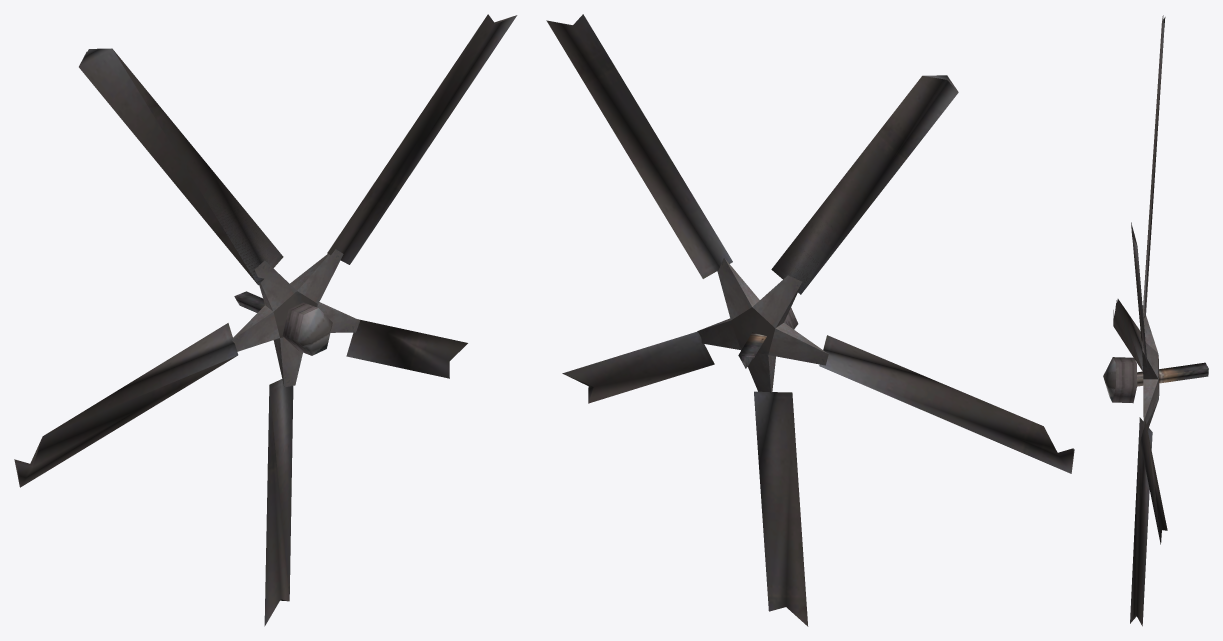
The model's file is vehicle_mi24p_hind_desert_d_piece02_LOD3.obj.
3 renders of one model, left to right at view 1: azimuth 30°, elevation 25°; view 2: azimuth 150°, elevation 25°; view 3: azimuth 270°, elevation 25°, orthographic. The views are drawn at different scales.
Visible parts, largest first — view 1: mtl_mi24p_hind_desert; view 2: mtl_mi24p_hind_desert; view 3: mtl_mi24p_hind_desert.
Part boxes in pixels (x1,y1,x2,y2): mtl_mi24p_hind_desert: [14, 14, 517, 626]; mtl_mi24p_hind_desert: [546, 14, 1074, 626]; mtl_mi24p_hind_desert: [1103, 15, 1208, 626].
Size of the model in its own units: 517 by 578 by 102.
